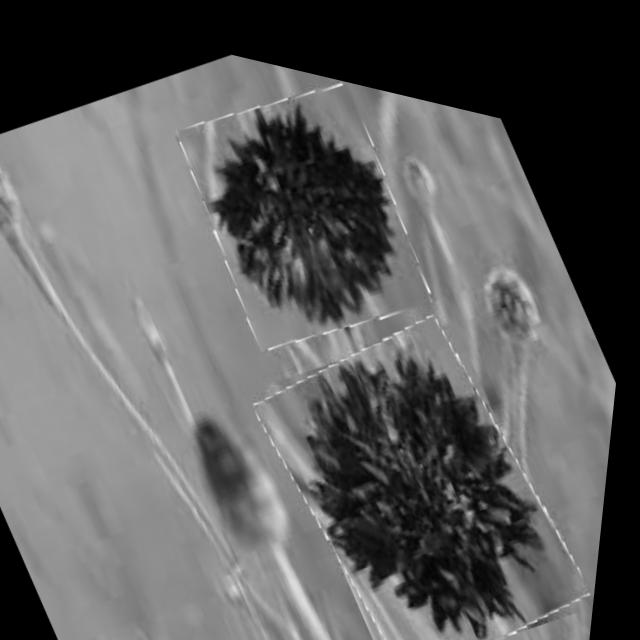Flower: (237, 252, 623, 640), (157, 34, 460, 373)
